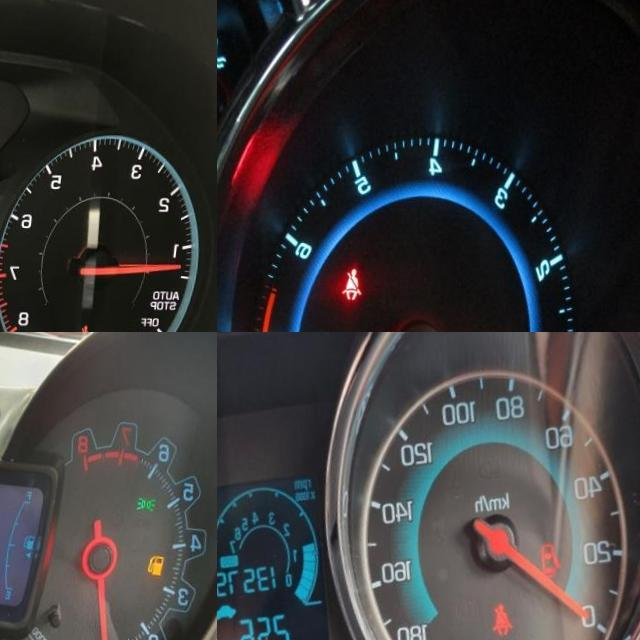Doors: (545, 536, 572, 575)
Low fuel level: (153, 549, 173, 572)
SideLamp: (140, 489, 164, 510)
